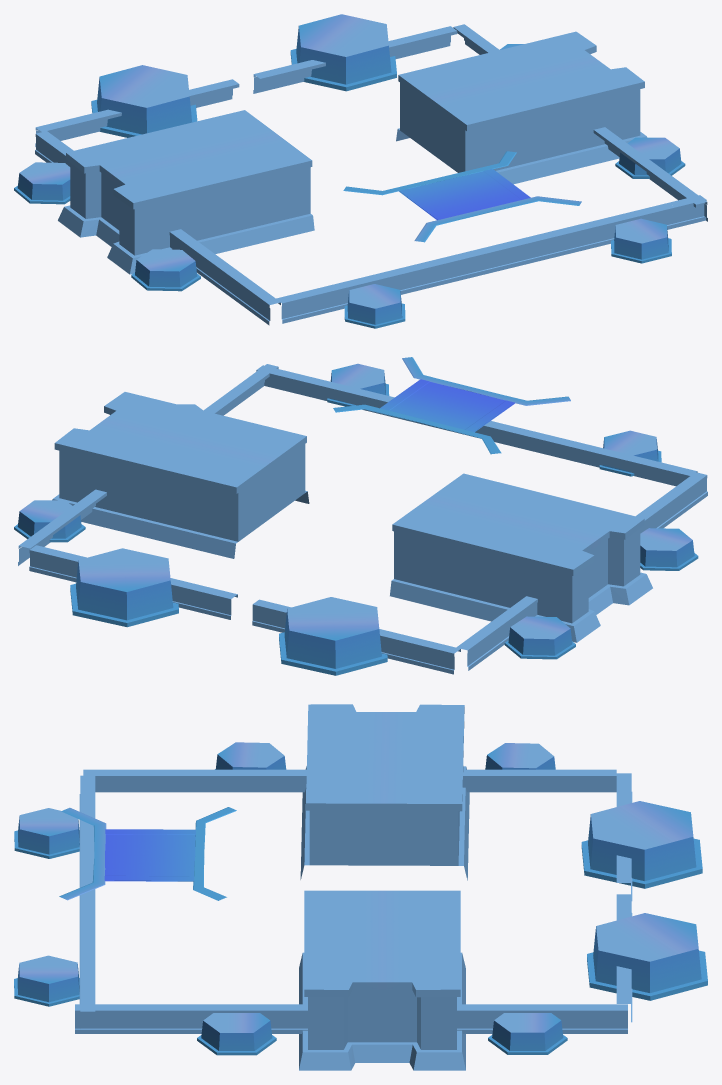
The model's file is Area_05_5.FBX.
The picture shows the model from 3 angles, top to bottom: view 1: azimuth 30°, elevation 25°; view 2: azimuth 150°, elevation 25°; view 3: azimuth 270°, elevation 25°; orthographic projection. The views are drawn at different scales.
Visible parts, largest first — view 1: Area_05_5; view 2: Area_05_5; view 3: Area_05_5.
Boxes of the visible parts, x1,y1,x2,y2 form: Area_05_5: [14, 14, 707, 328]; Area_05_5: [14, 357, 707, 675]; Area_05_5: [14, 704, 707, 1070].
Bounding box in the file's own units: 5220 × 652 × 5148.
